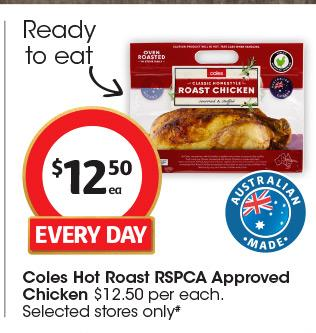description_block: (16, 261, 294, 303)
price_main: (18, 110, 158, 215)
product_image_block: (124, 34, 308, 187)
promo_text_block: (18, 216, 160, 258)
unit_price_block: (90, 280, 238, 304)
